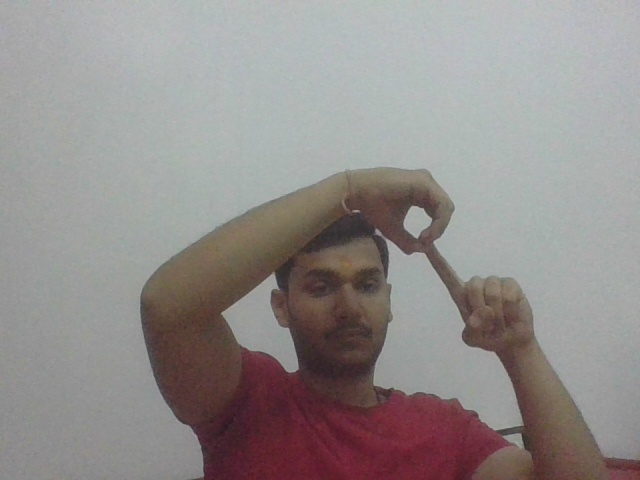Q: (393, 164, 505, 347)
